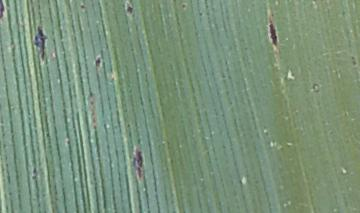tarspot: (32, 26, 48, 63), (132, 150, 144, 183), (267, 22, 279, 48), (311, 82, 322, 93), (93, 55, 102, 68), (125, 5, 135, 16), (1, 1, 5, 20), (43, 130, 51, 138), (31, 167, 39, 174), (87, 90, 94, 98), (64, 138, 71, 146), (31, 174, 39, 181), (179, 3, 186, 10), (88, 100, 95, 107), (125, 122, 132, 129), (79, 3, 85, 11), (351, 60, 357, 67), (7, 191, 13, 197), (350, 55, 355, 61), (197, 11, 202, 17)
